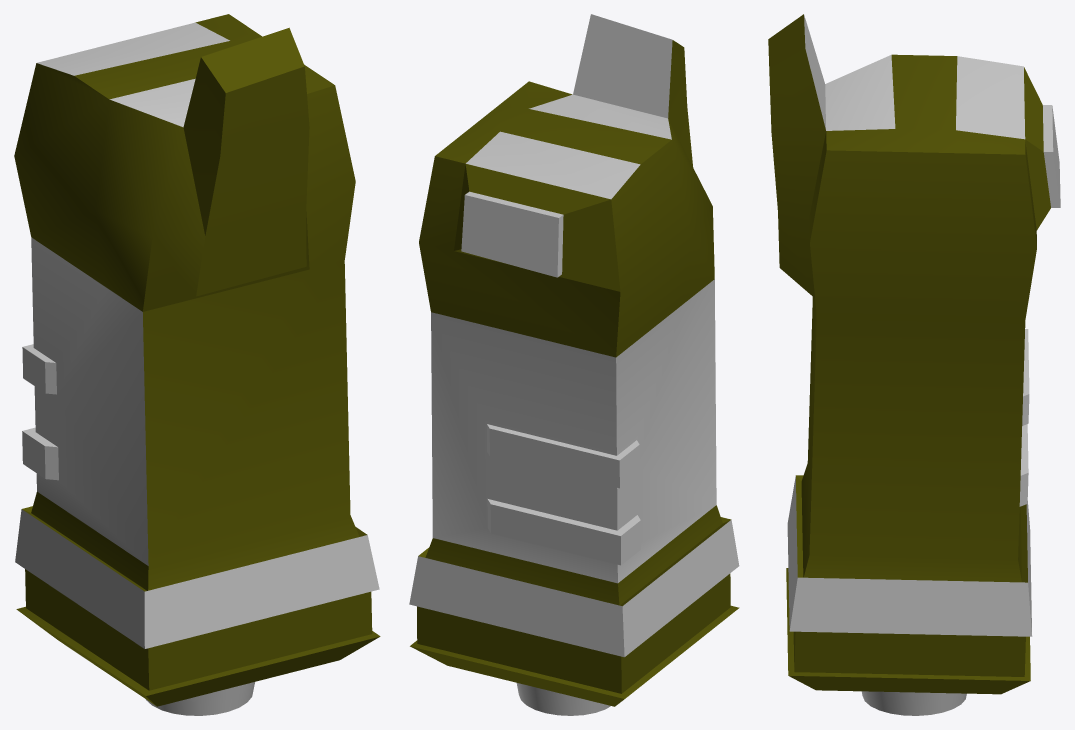
Rendered from rightForeArm.obj.
The picture shows the model from 3 angles, left to right: view 1: azimuth 30°, elevation 25°; view 2: azimuth 150°, elevation 25°; view 3: azimuth 270°, elevation 25°; orthographic projection. The views are drawn at different scales.
Parts seen in each view (by area): view 1: 3_Forearm.R_Cube.021; view 2: 3_Forearm.R_Cube.021; view 3: 3_Forearm.R_Cube.021.
Part boxes in pixels (<box>): 3_Forearm.R_Cube.021: <box>14,14,380,715</box>; 3_Forearm.R_Cube.021: <box>409,14,739,715</box>; 3_Forearm.R_Cube.021: <box>768,14,1060,715</box>.
Bounding box in the file's own units: 0.8252 × 2.32 × 0.9274.
